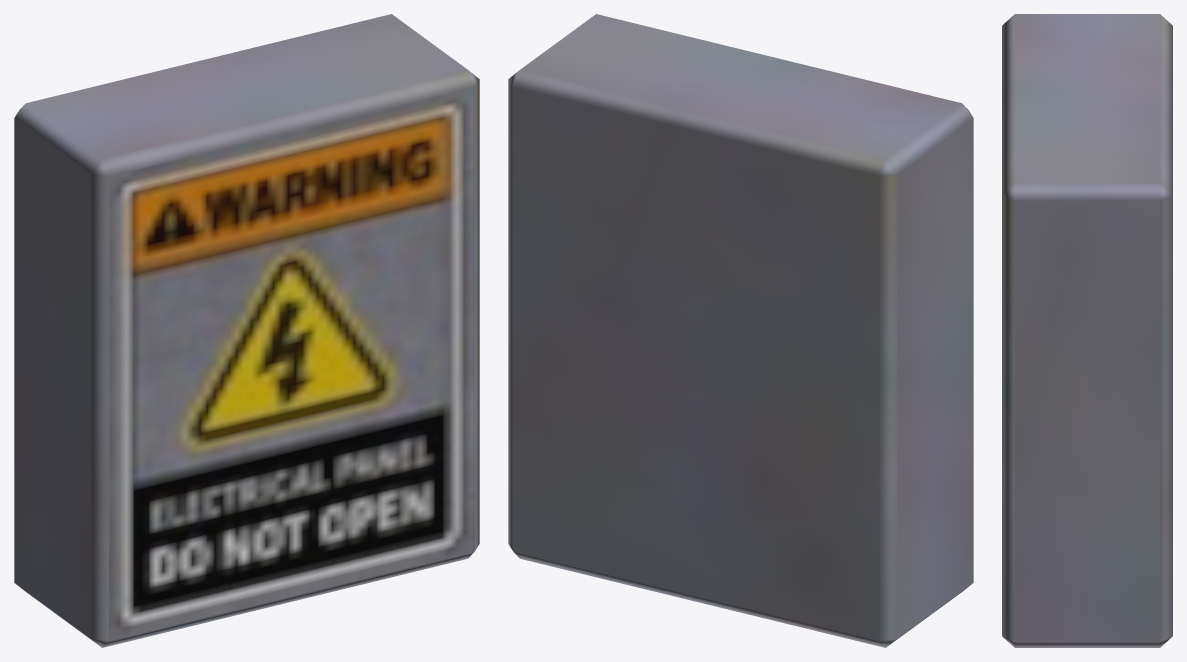
File: coffret_electrique.glb
The picture shows the model from 3 angles, left to right: view 1: azimuth 30°, elevation 25°; view 2: azimuth 150°, elevation 25°; view 3: azimuth 270°, elevation 25°; orthographic projection. The views are drawn at different scales.
Visible parts, largest first — view 1: Electrical_Panel; view 2: Electrical_Panel; view 3: Electrical_Panel.
Boxes of the visible parts, x1,y1,x2,y2 form: Electrical_Panel: (14,14,479,647); Electrical_Panel: (508,14,973,647); Electrical_Panel: (1002,14,1172,647).
Size of the model in its own units: 0.4167 by 0.5 by 0.1667.
1 material, 1 textured.
